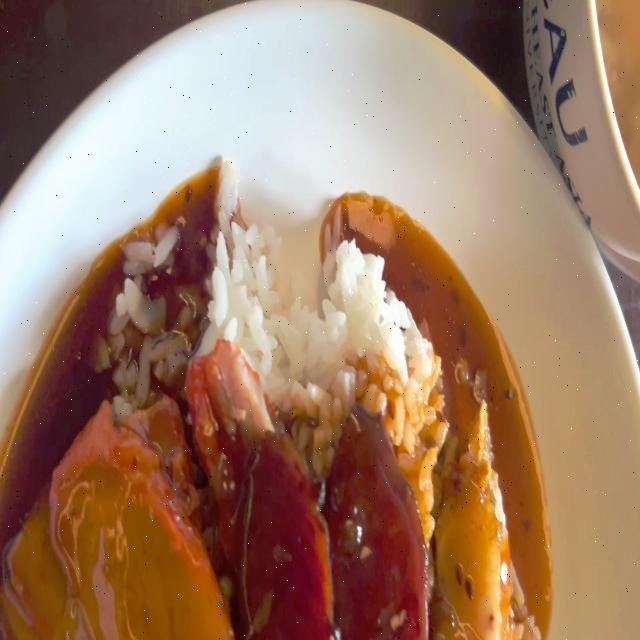chainese_sausage: (245, 424, 423, 640), (335, 409, 421, 640), (248, 425, 332, 639)
crispy_pork: (449, 399, 529, 640)
red_pork: (11, 401, 222, 640), (55, 406, 221, 640), (193, 339, 272, 492)
red_pork_and_crispy_pork: (0, 152, 529, 640)
rice: (103, 180, 476, 378)
